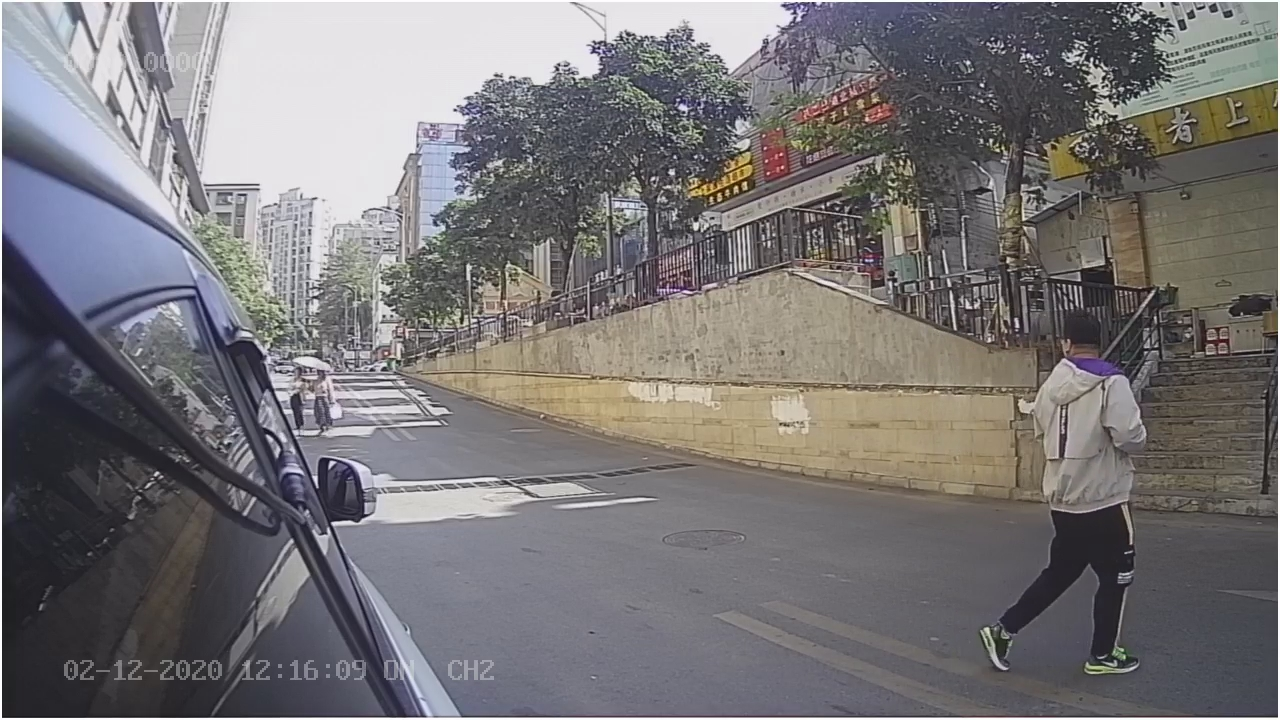person: (969, 305, 1155, 676)
